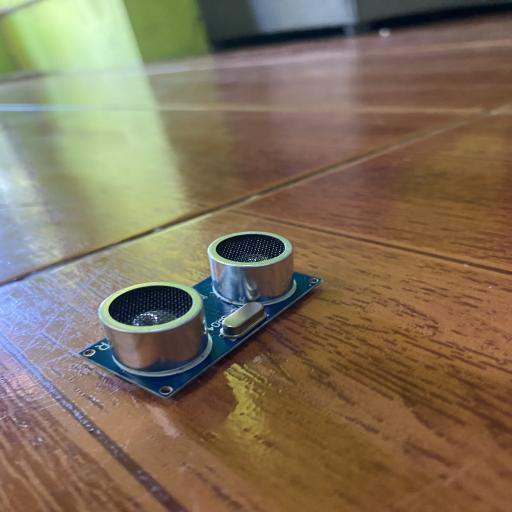Ultrasonic Sensor: (78, 230, 324, 400)
